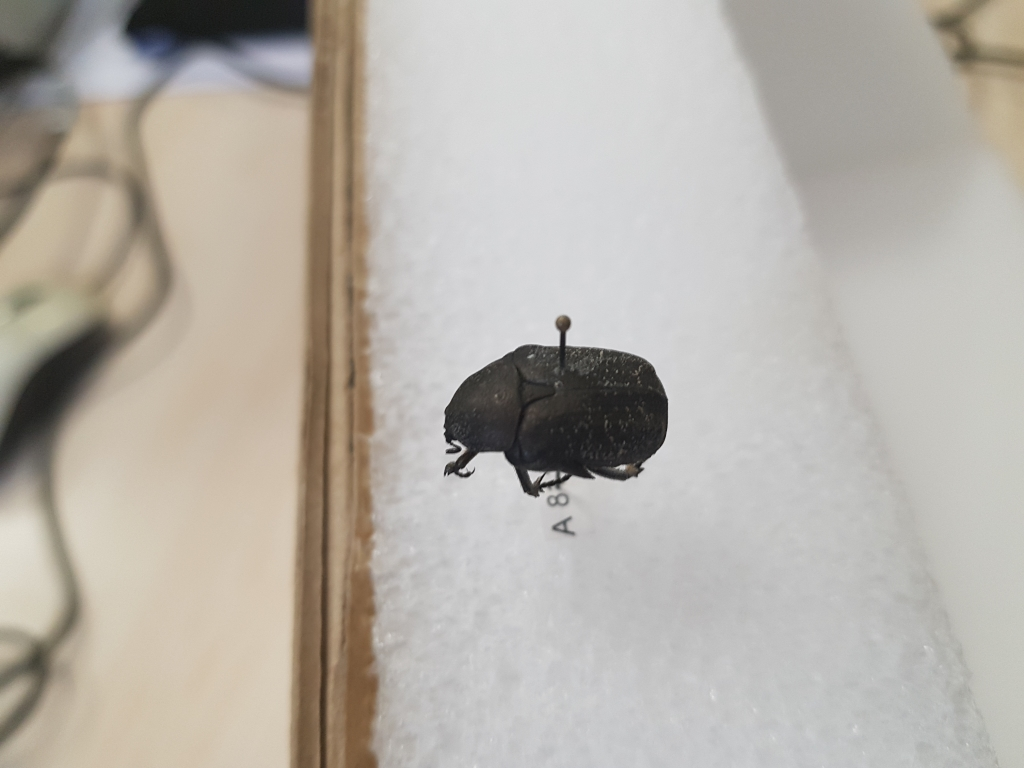Protaetia_asiatica: (436, 333, 680, 500)
